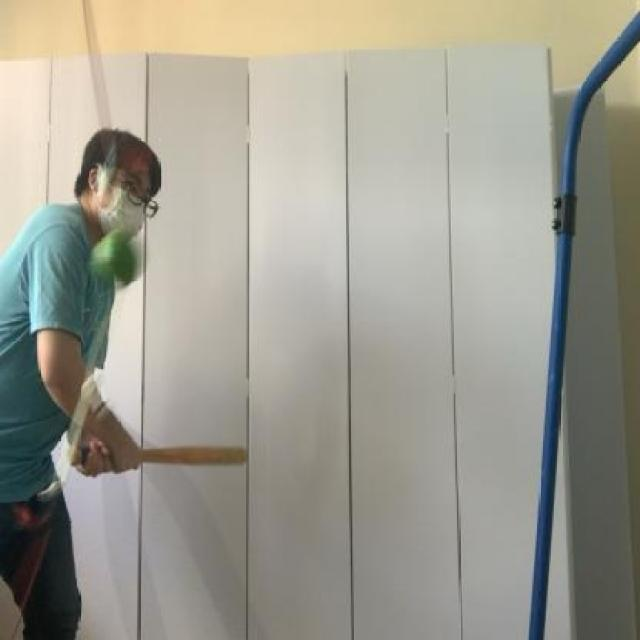baseball: (86, 215, 154, 298)
